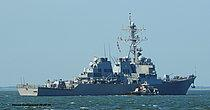MIL_Ship: (14, 10, 197, 96)
